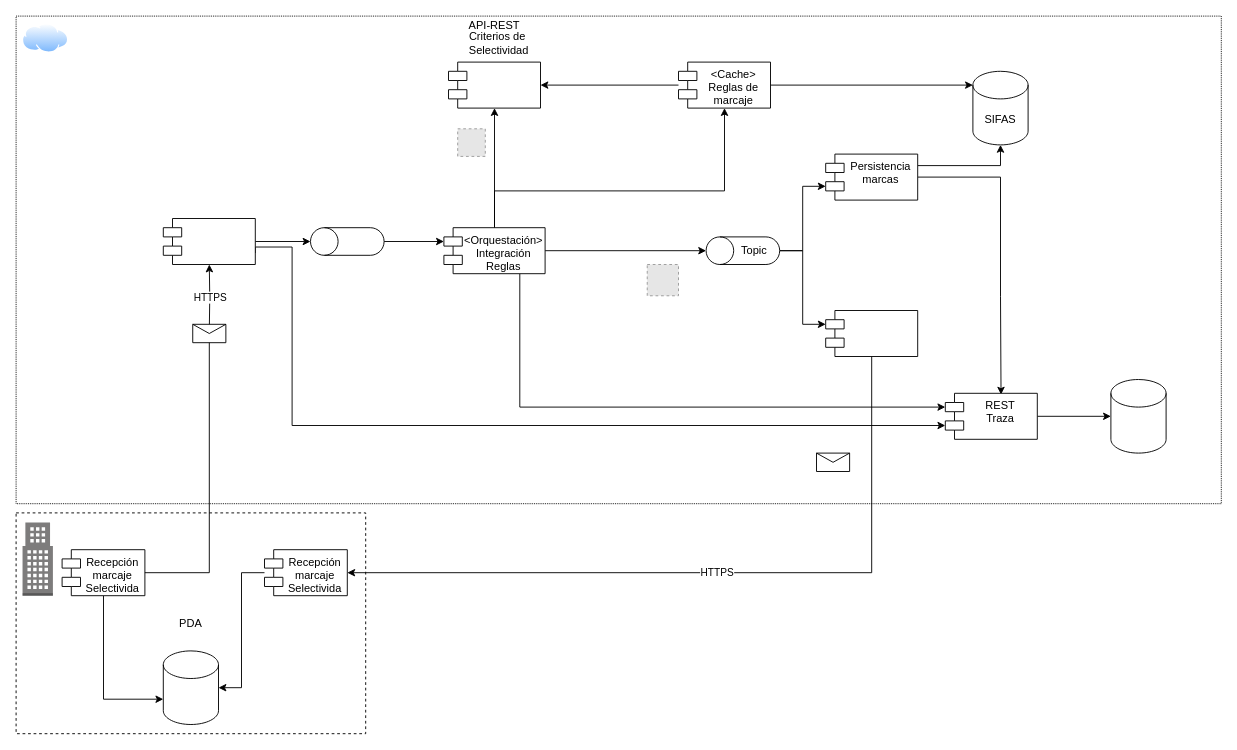
The diagram is 1237 pixels wide and 750 high, and some of its shapes have lost their labels. Grey dashed boxes stand in for pictures. Each missing label, with the centre of its shape:
Informa PDA: (871,333)
Postal: (190,687)
Recepción solicitud marcaje: (208,241)
Servicio de marcaje: (494,84)
Trazabilidad: (1138,416)
